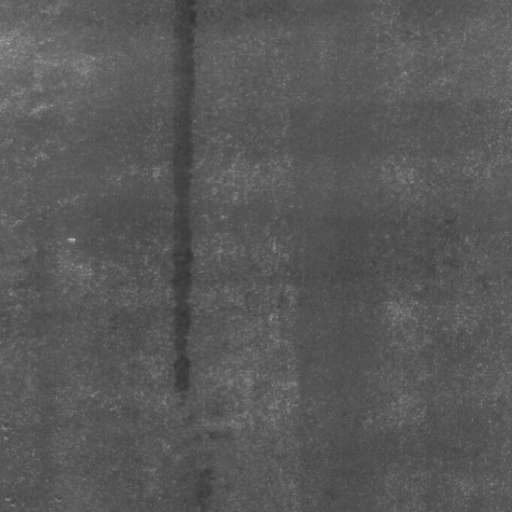aokeng: (169, 248, 194, 396)
